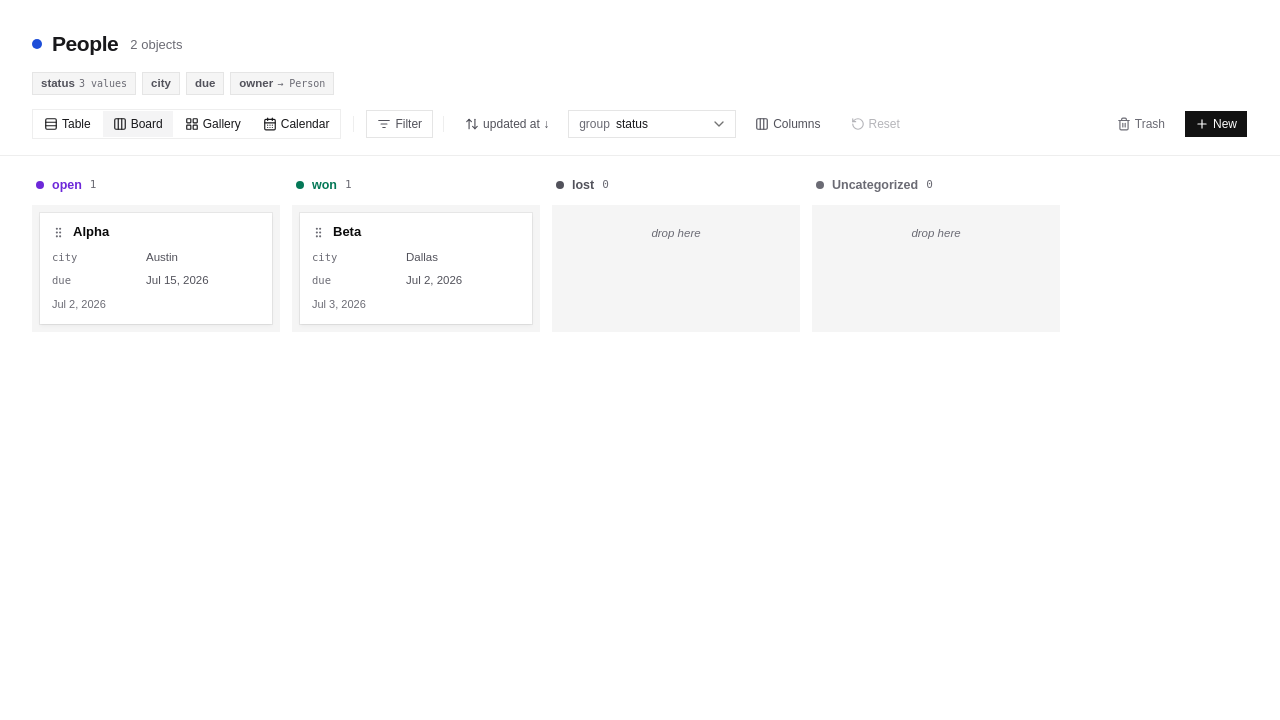
Test: view config drives the rendered set › a terminal conflict on a board drag puts the card back and tells the member
Expected: the text "Alpha" is shown, [73,224,109,238]
Press the mouse on the button "Alpha city Austin due Jul 15, 2026 Jul 2, 2026" at point(156, 268), box [40,212,272,324]
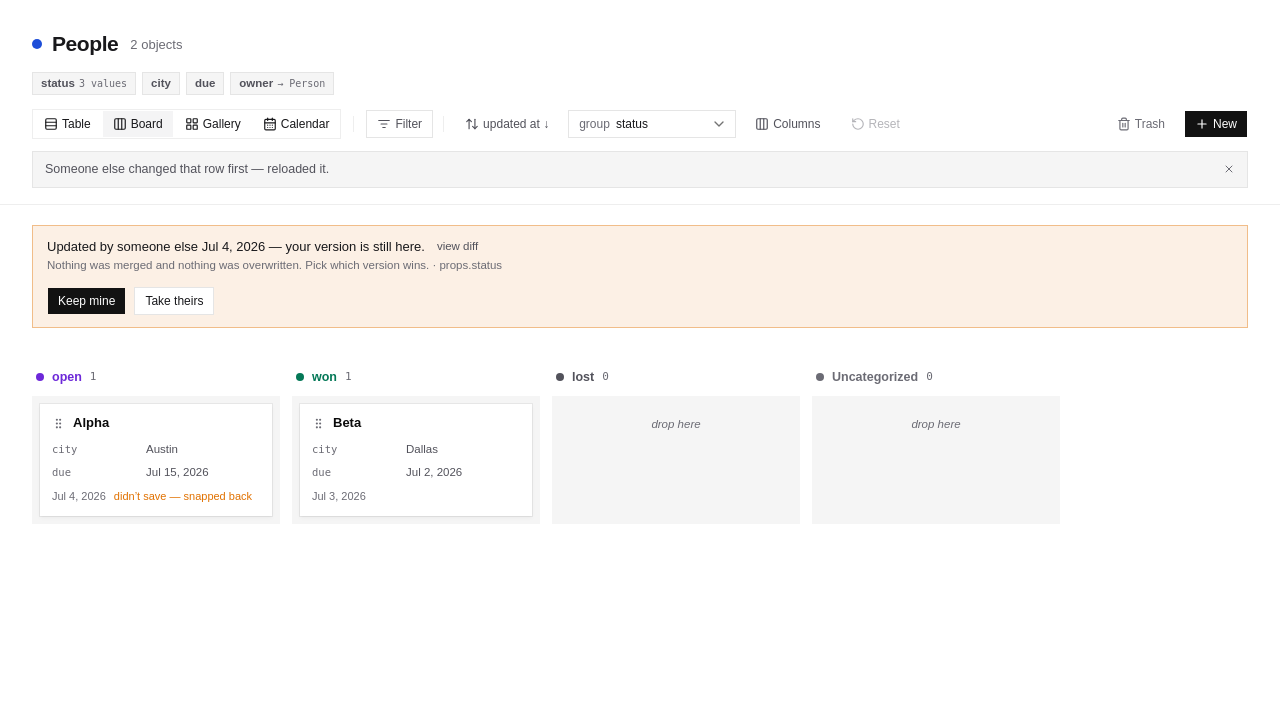
Now the text "Someone else changed that row first — reloaded it." is shown, box [45,162,329,176]
